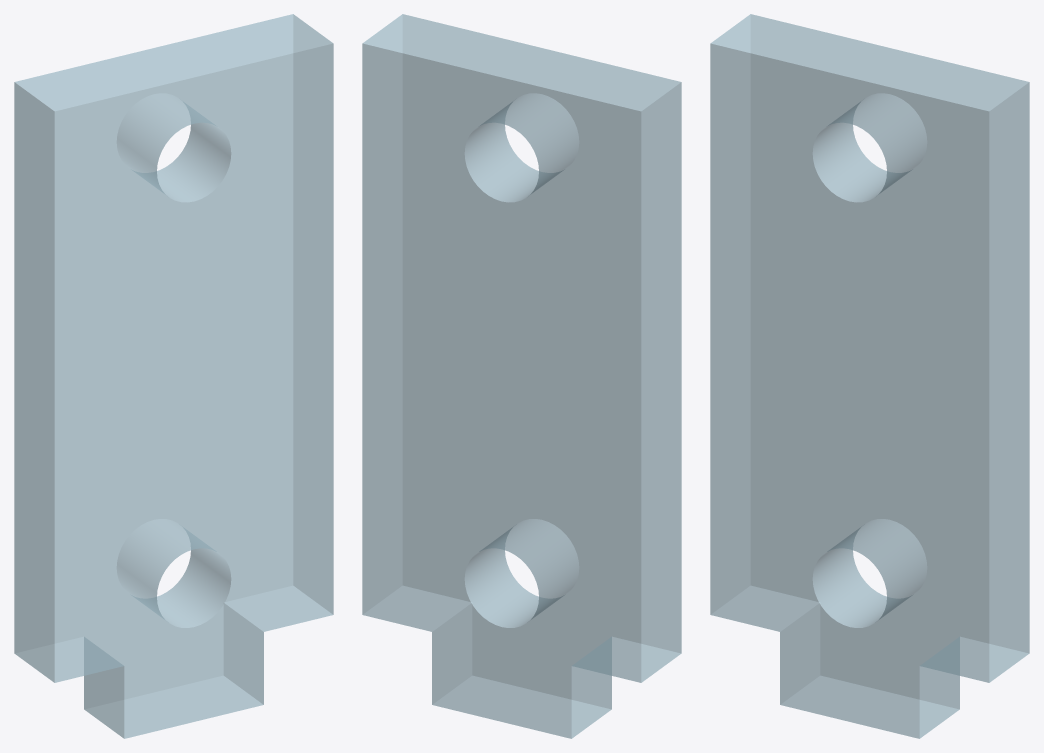
Rendered from suporte_motor.glb.
3 renders of one model, left to right at view 1: azimuth 30°, elevation 25°; view 2: azimuth 150°, elevation 25°; view 3: azimuth 330°, elevation 25°, orthographic.
Visible parts, largest first — view 1: suporte; view 2: suporte; view 3: suporte.
Boxes of the visible parts, x1,y1,x2,y2 form: suporte: (14, 14, 333, 738); suporte: (362, 14, 681, 738); suporte: (710, 14, 1029, 738).
Size of the model in its own units: 12 by 26.5 by 3.
